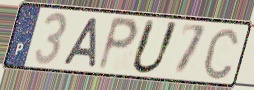3: (33, 11, 69, 67)
7: (175, 22, 207, 78)
A: (60, 16, 100, 70)
C: (201, 25, 241, 82)
P: (95, 14, 141, 73)
U: (128, 18, 182, 77)
